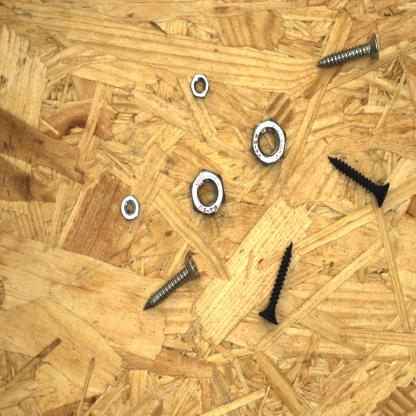screw: (141, 248, 202, 314), (326, 152, 391, 210), (257, 240, 295, 328), (315, 32, 381, 71)
